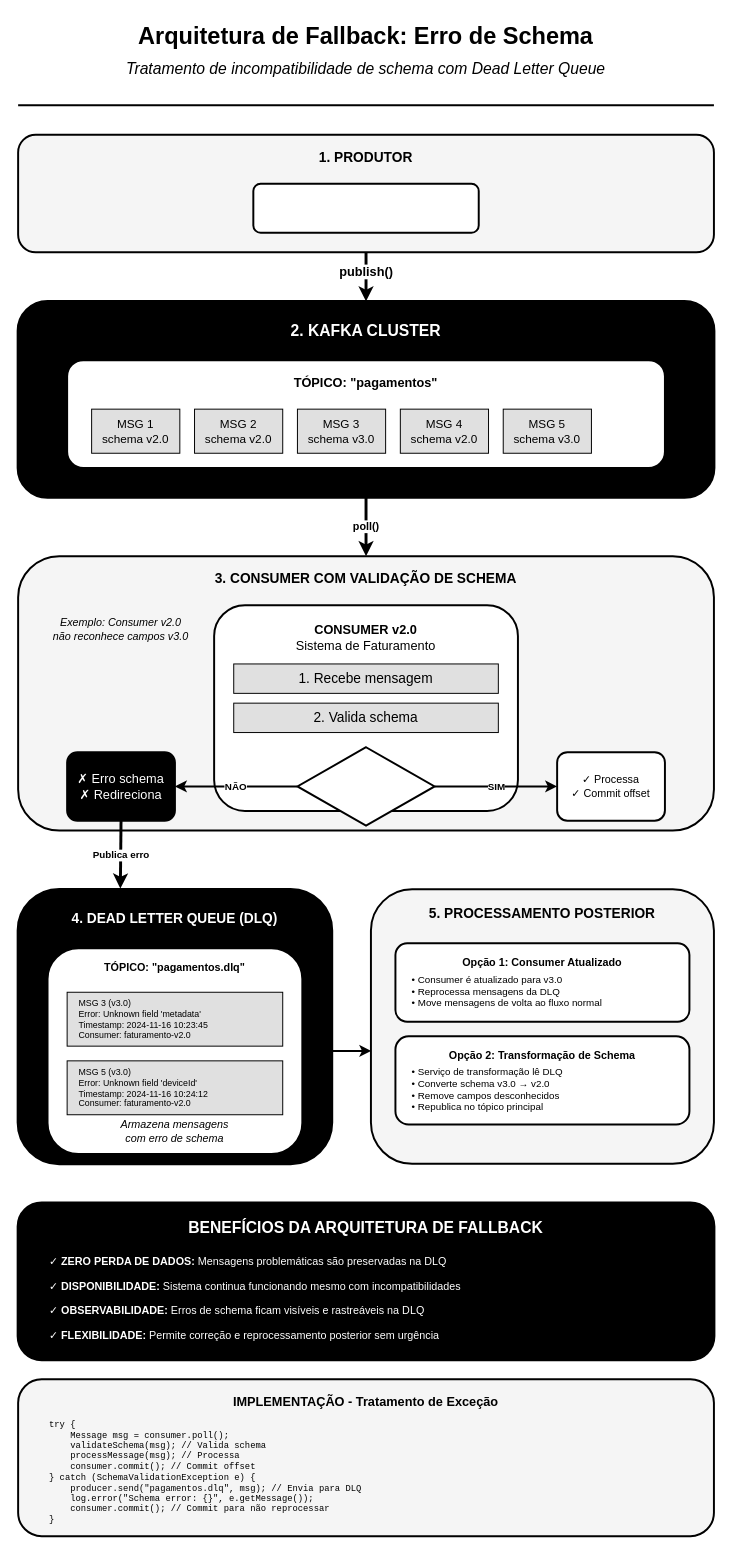
The diagram is 733 pixels wide and 1553 high, and some of its shapes have lost their labels. Each missing label, with the centre of its shape:
"PRODUCER Serviço de Pagamento" goes at pixel 365 207.
"Schema válido?" goes at pixel 365 786.
